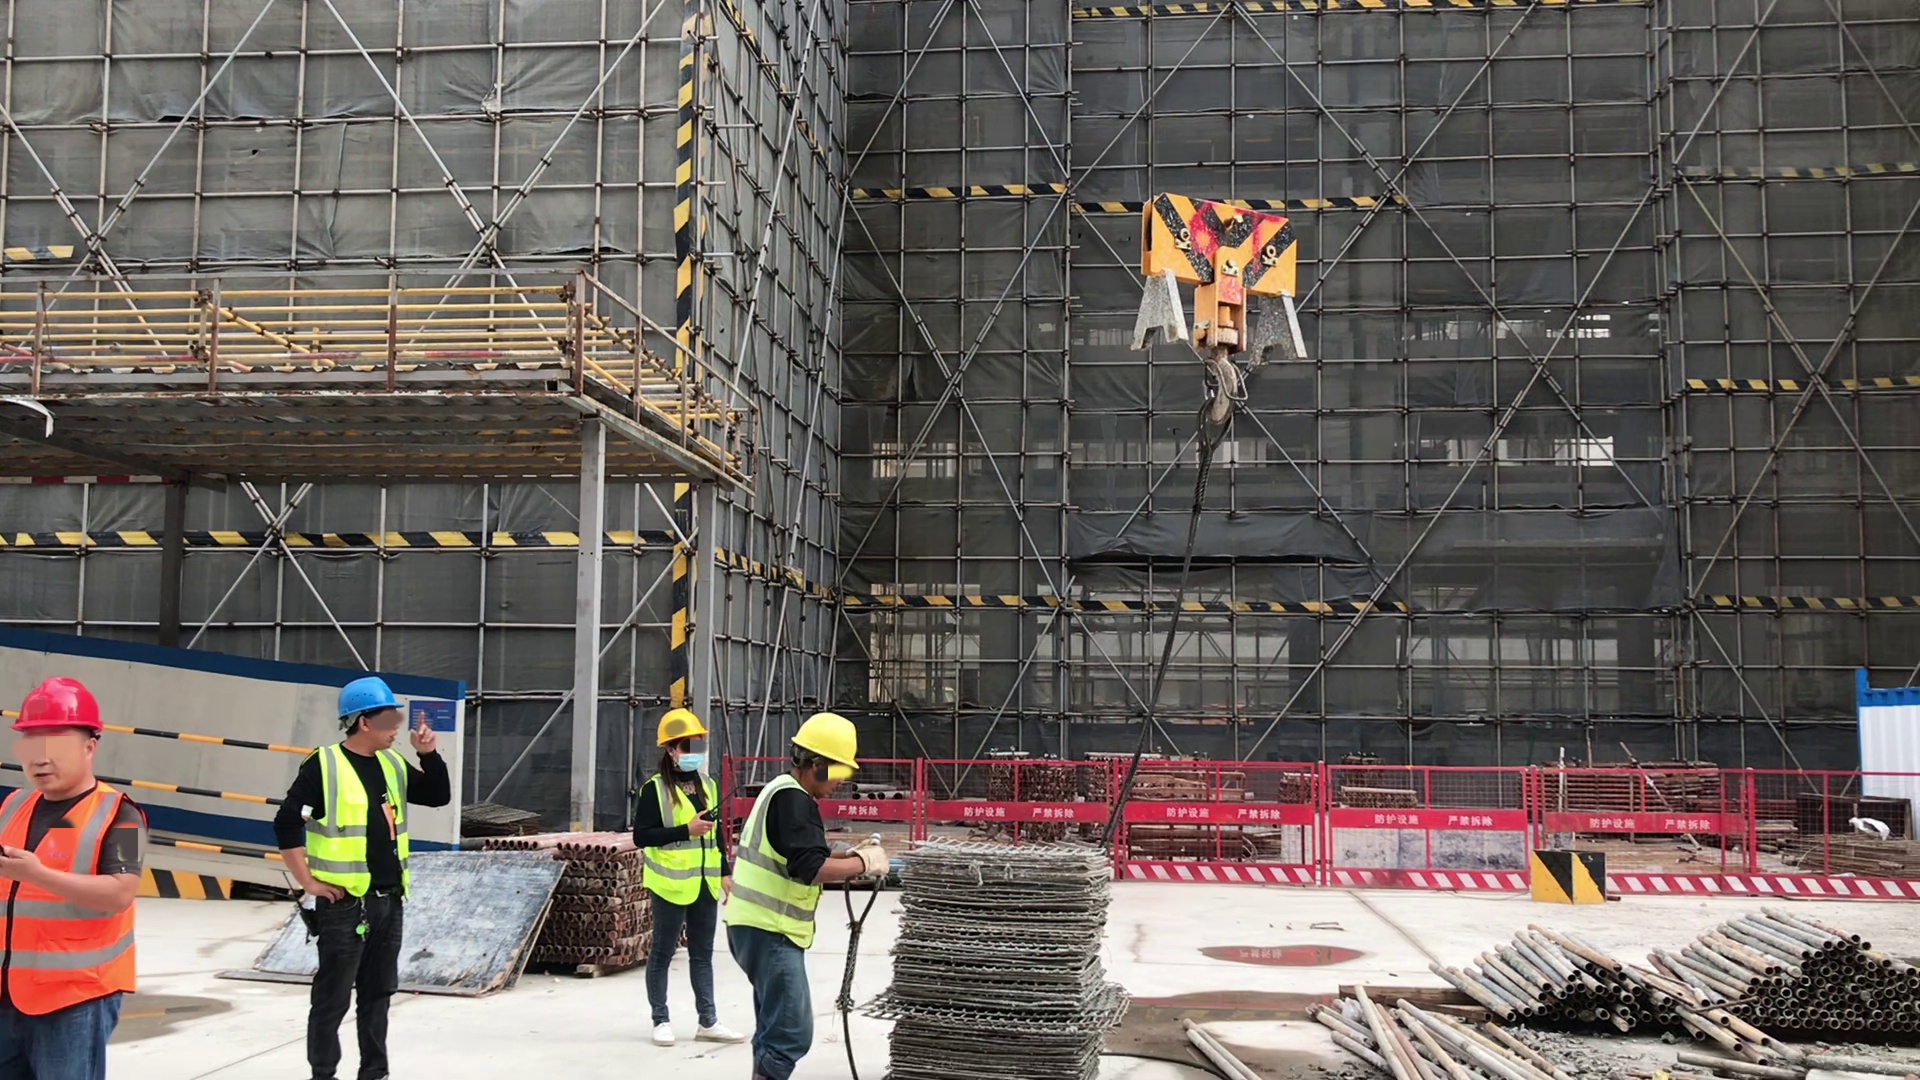fence: (1152, 753, 1526, 901), (1614, 764, 1920, 909), (148, 712, 267, 871), (915, 750, 1097, 824)
helmet: (8, 682, 104, 739), (793, 715, 864, 769), (334, 679, 401, 717), (655, 713, 712, 746)
hook: (1130, 191, 1303, 417)
person: (266, 674, 449, 1080), (732, 712, 889, 1080), (4, 676, 146, 1080), (633, 708, 733, 1053)
scaffold: (1677, 917, 1920, 1049), (1436, 926, 1680, 1037), (558, 832, 634, 976)
vest: (7, 785, 141, 1022), (301, 741, 418, 904), (733, 778, 822, 953), (645, 771, 722, 911)
